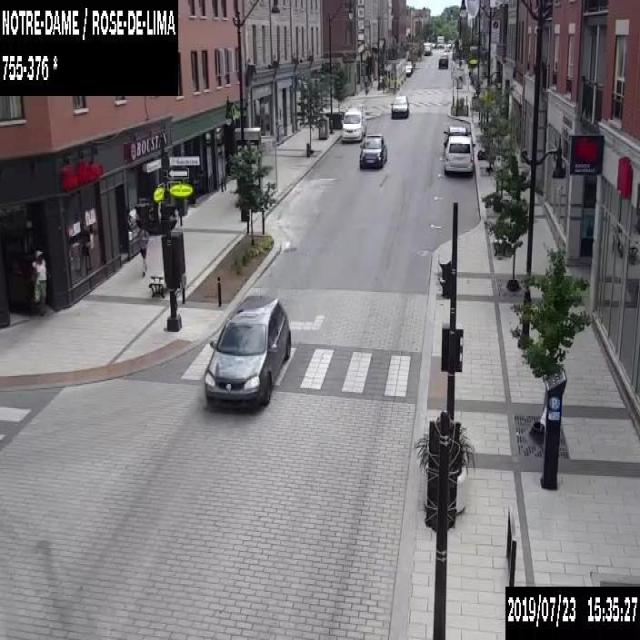pedestrian: (30, 248, 46, 314), (136, 222, 148, 278)
vehicle: (204, 295, 290, 405), (443, 134, 475, 174), (358, 134, 386, 168), (340, 107, 366, 140), (390, 94, 408, 118), (443, 125, 470, 135), (422, 41, 432, 54), (438, 56, 448, 68), (436, 34, 444, 48), (406, 60, 412, 76), (432, 42, 436, 48)
